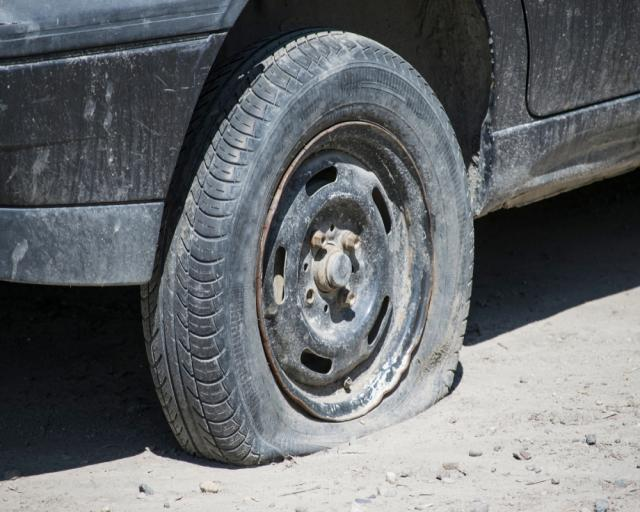tire flat: (141, 28, 474, 465)
